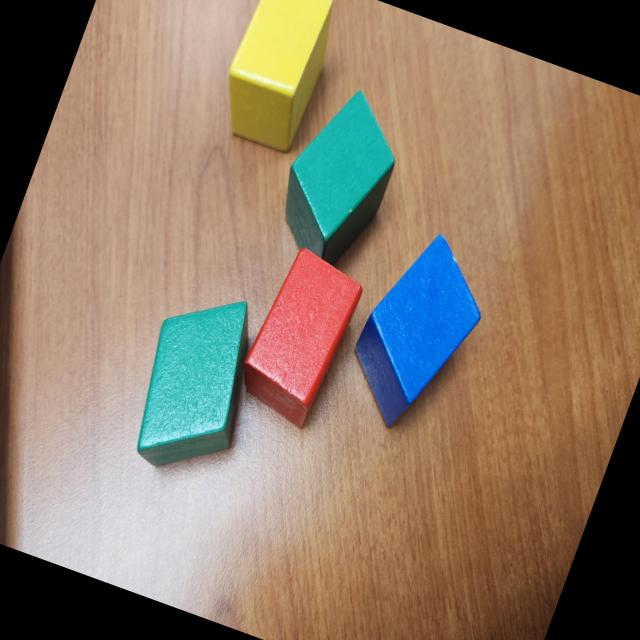blue: (331, 219, 505, 446)
green: (112, 274, 276, 487), (264, 78, 416, 276)
red: (228, 240, 370, 434)
yellow: (206, 0, 348, 159)
